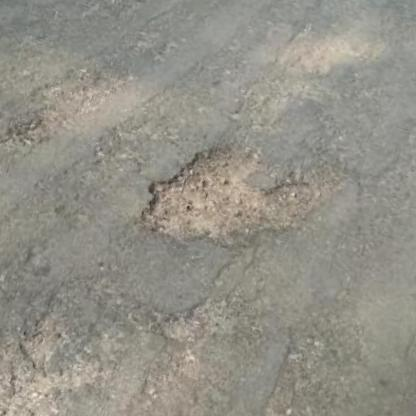pothole: (129, 120, 341, 283)
